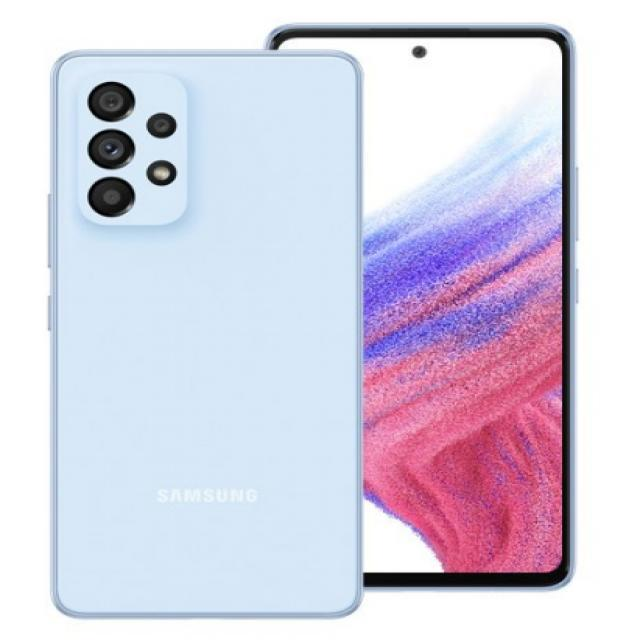phone: (44, 49, 367, 619)
